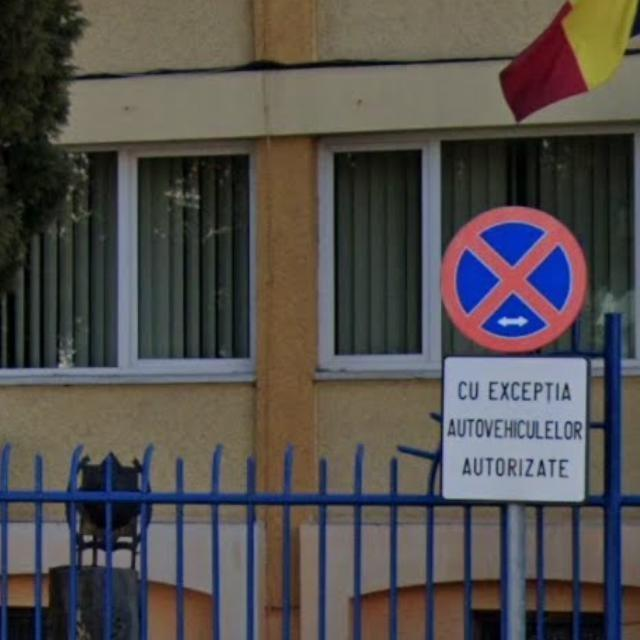forb_waiting: (440, 206, 586, 357)
